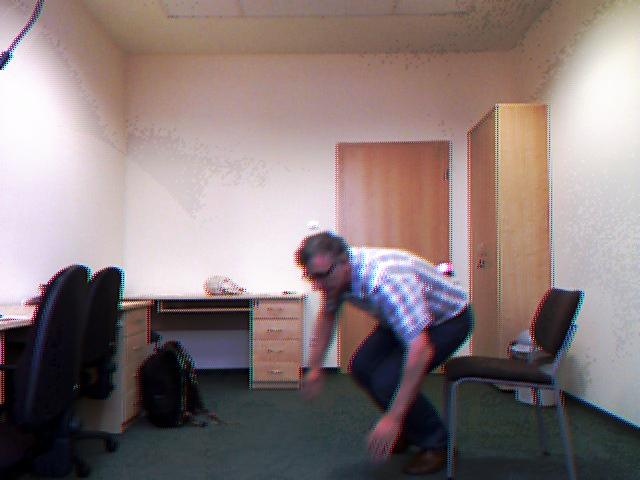near-fall: (273, 222, 483, 480)
